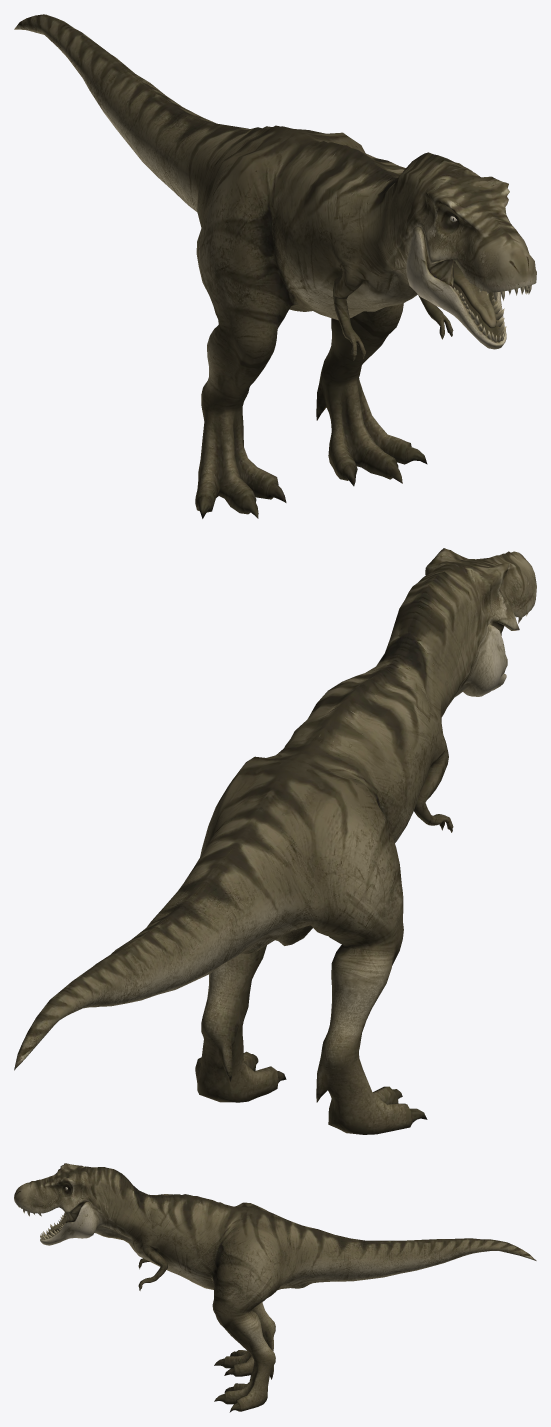
The model's file is tyrant_2.glb.
3 views of the same model, one above another, from view 1: azimuth 30°, elevation 25°; view 2: azimuth 150°, elevation 25°; view 3: azimuth 270°, elevation 25° (orthographic). The views are drawn at different scales.
Bounding box in the file's own units: 309 × 565 × 1219.
Materials: 1 (1 with a texture image).
